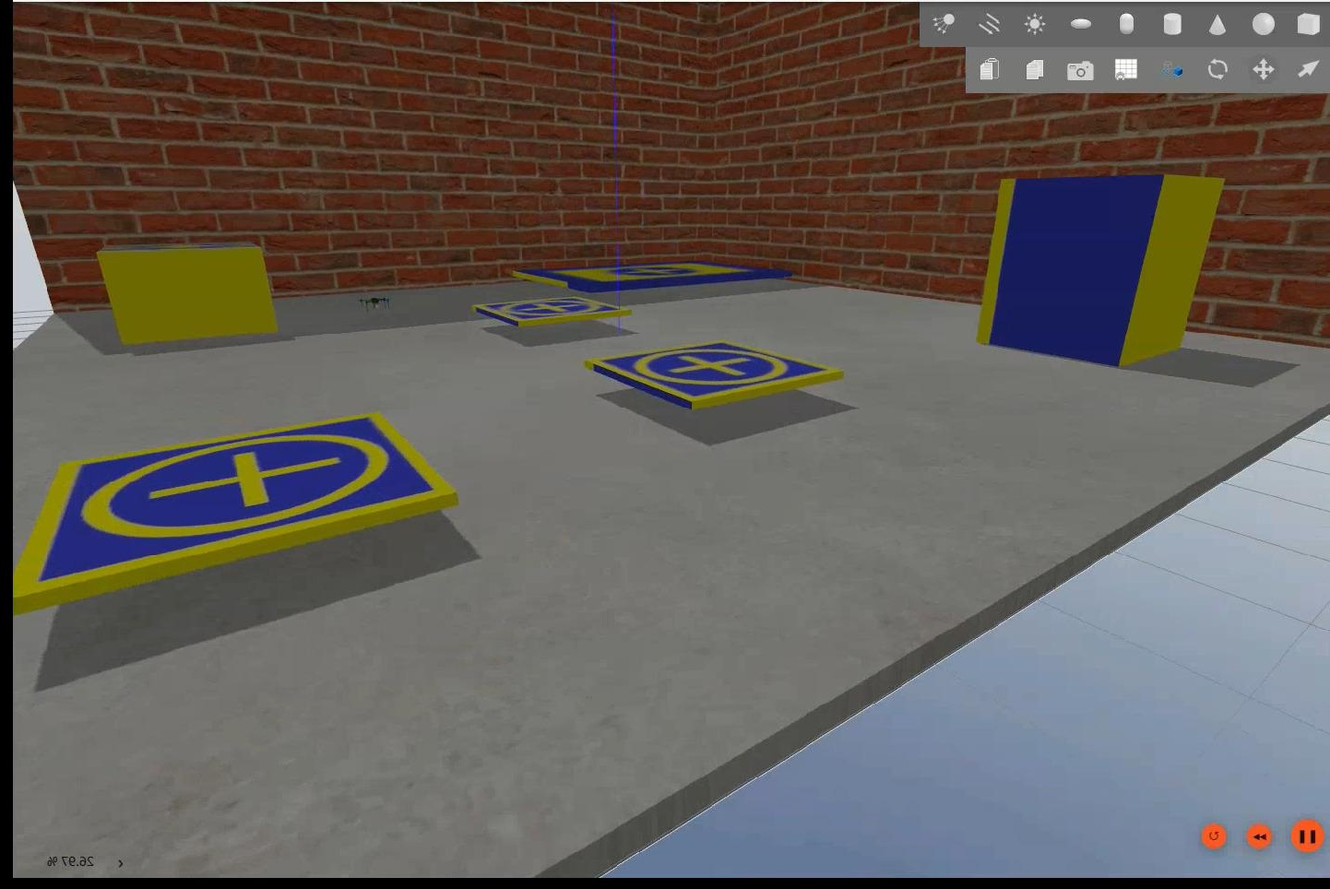large_base: (510, 256, 791, 293)
small_base: (9, 411, 457, 617), (587, 338, 841, 409), (469, 295, 622, 332)
